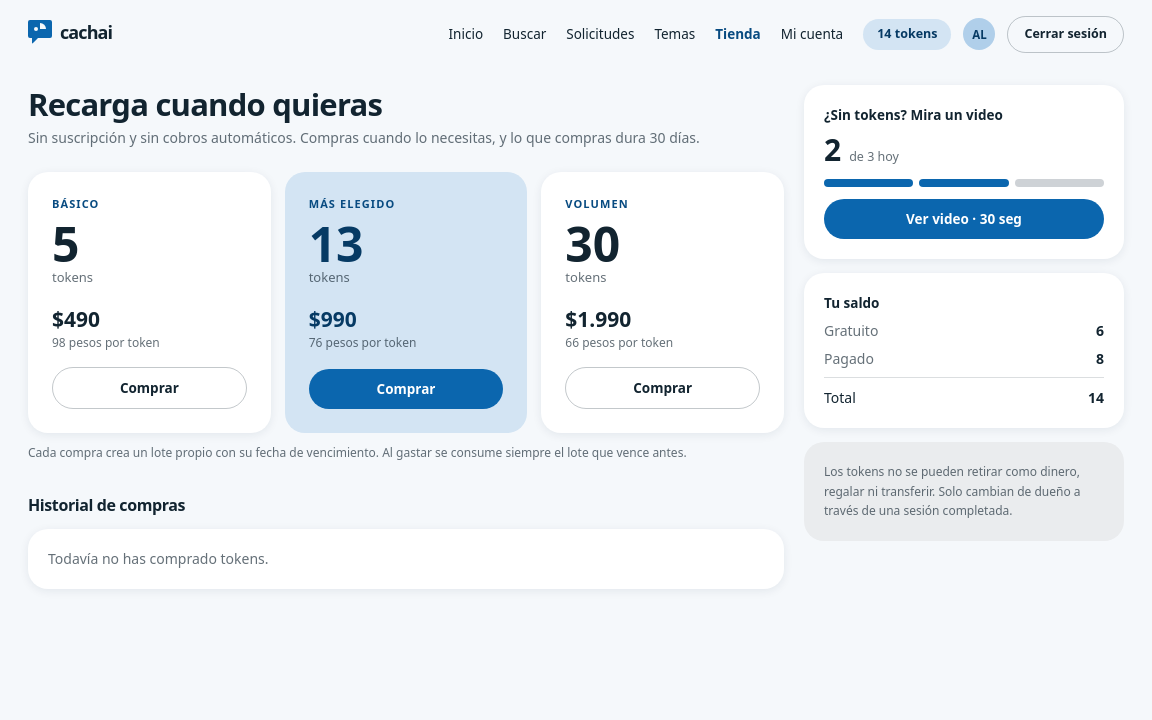
Test: tienda › comprar un paquete envia su codigo y actualiza el saldo del encabezado
The width and height of the screenshot is (1152, 720).
Click the button with aria-label "Comprar 13 tokens": (406, 389) [309,369,503,409]
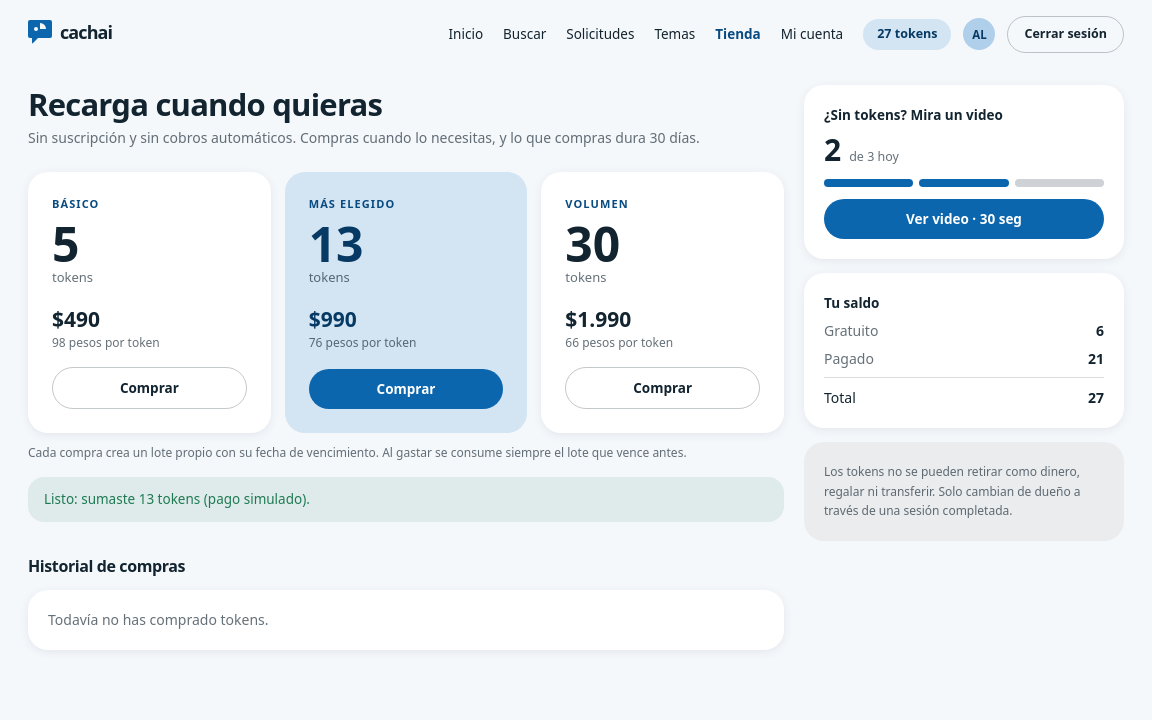
expect the text "Listo: sumaste 13 tokens (pago simulado)." is shown: met, box [28,477,784,522]
expect the link "27 tokens" is shown: met, box [863,19,952,50]
